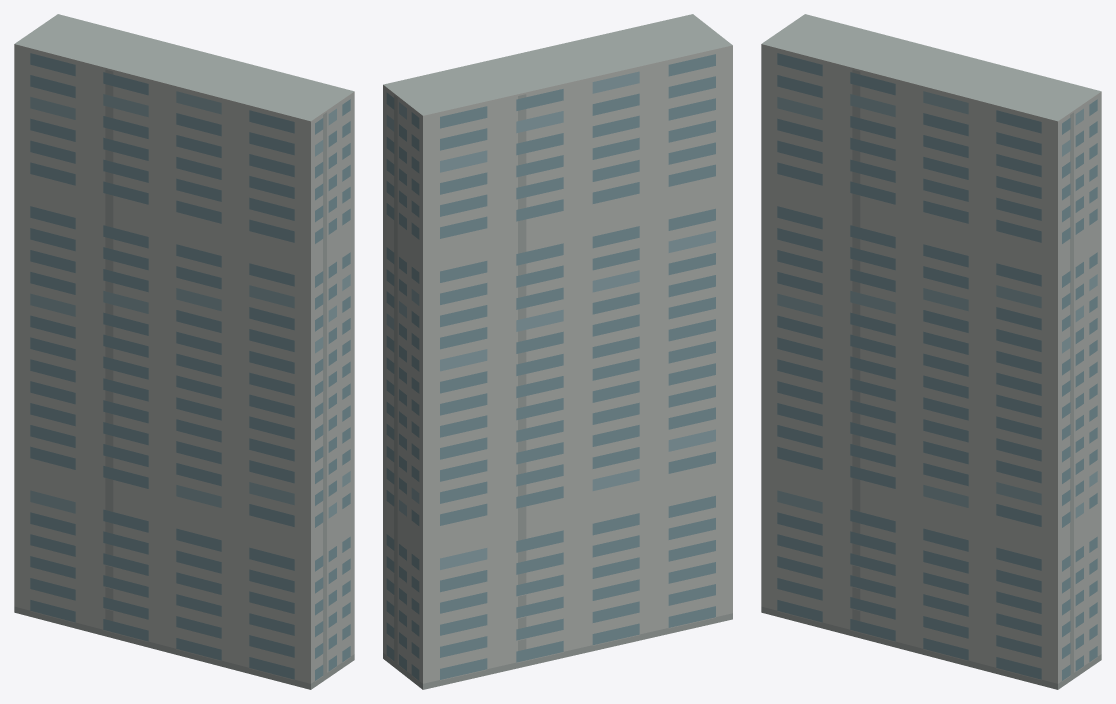
File: residential-ba50157e-3638-4578-a1ac-819e279c71b8.glb
3 views of the same model, side by side, from view 1: azimuth 90°, elevation 25°; view 2: azimuth 150°, elevation 25°; view 3: azimuth 270°, elevation 25° (orthographic).
Parts seen in each view (by area): view 1: residential-ba50157e-3638-4578-a1ac-819e279c71b8.tmp; view 2: residential-ba50157e-3638-4578-a1ac-819e279c71b8.tmp; view 3: residential-ba50157e-3638-4578-a1ac-819e279c71b8.tmp.
Boxes of the visible parts, <box> form: residential-ba50157e-3638-4578-a1ac-819e279c71b8.tmp: <box>14,14,354,689</box>; residential-ba50157e-3638-4578-a1ac-819e279c71b8.tmp: <box>383,14,732,689</box>; residential-ba50157e-3638-4578-a1ac-819e279c71b8.tmp: <box>761,14,1101,689</box>.
Size of the model in its own units: 32.41 by 80 by 43.42.
